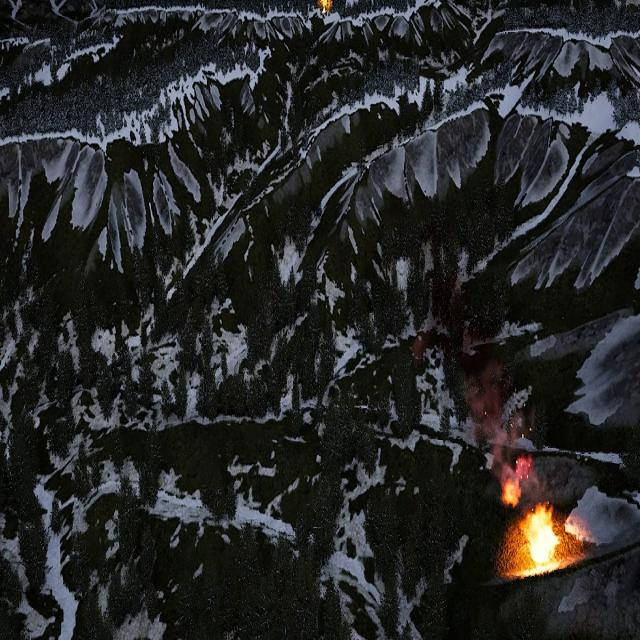fire: (518, 507, 566, 580), (501, 480, 519, 506), (319, 0, 331, 8)
smoke: (414, 267, 535, 500)
